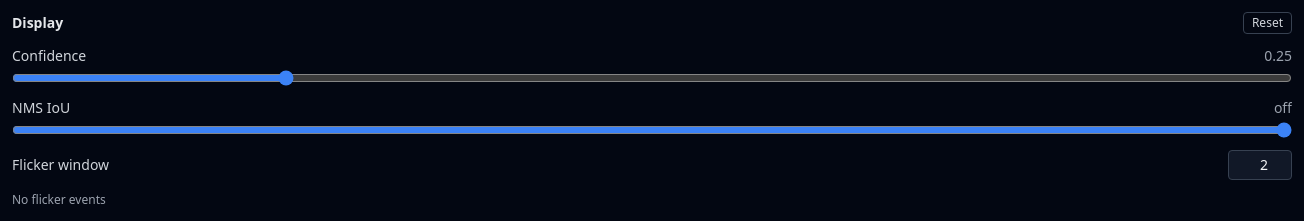
it: DisplayPanel › flicker window draft › restores the shown value on blur after clearing
Clear the number field labelled "Flicker window" at point(1260, 165), box [1228,150,1292,180]
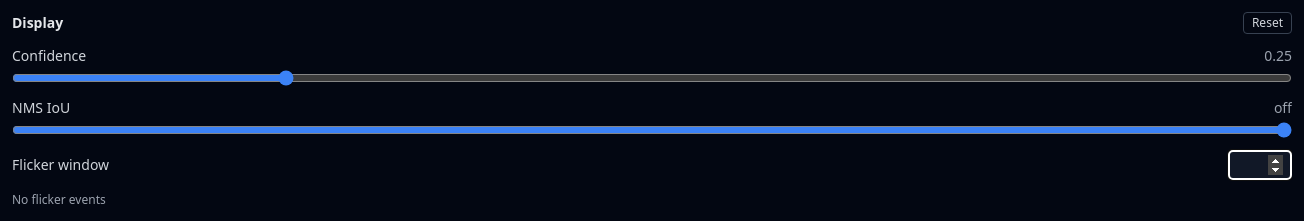
Press Tab
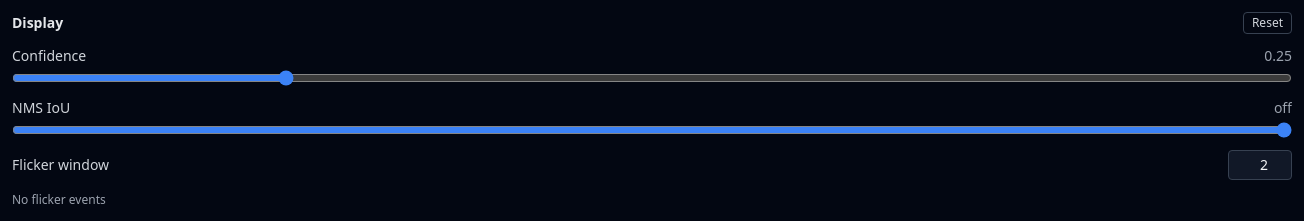
Check: the number field labelled "Flicker window" holds "2", box [1228,150,1292,180]
